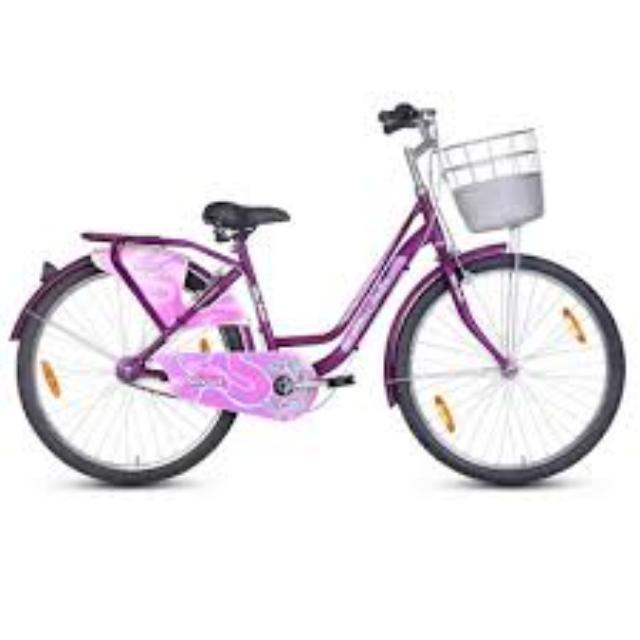obstacle: (8, 46, 636, 534)
